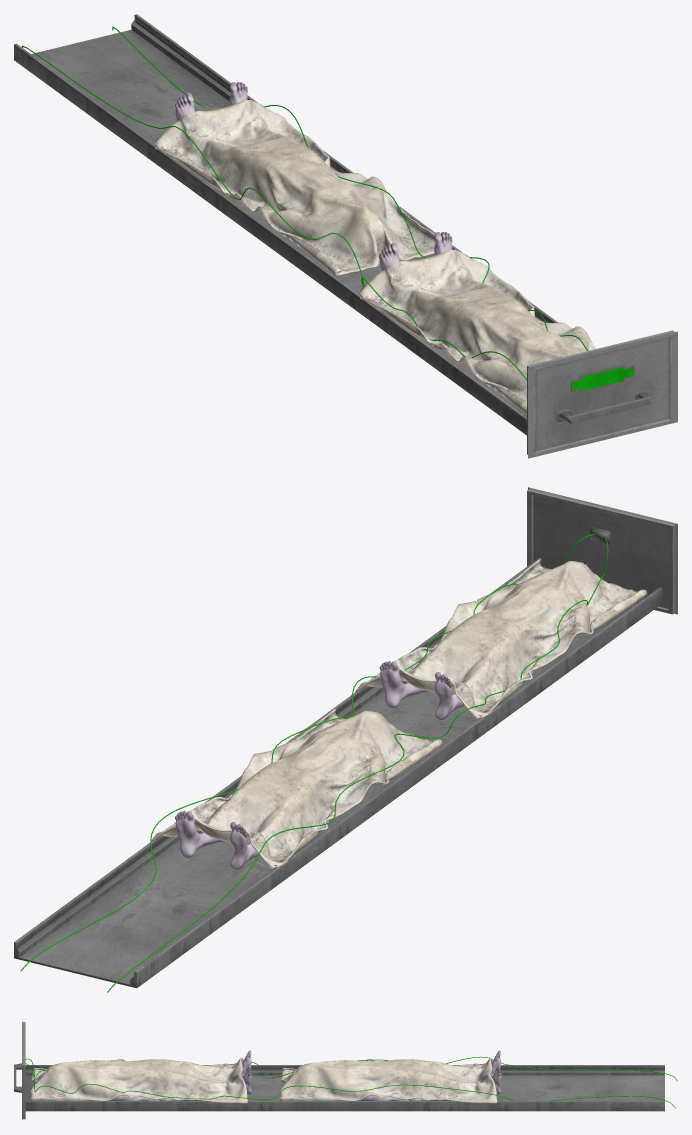
The model's file is szuflada_ziel.glb.
3 views of the same model, one above another, from view 1: azimuth 30°, elevation 25°; view 2: azimuth 150°, elevation 25°; view 3: azimuth 270°, elevation 25° (orthographic). The views are drawn at different scales.
Visible parts, largest first — view 1: Plane.033, Plane.004, Plane.003, Plane.027, BézierCurve.004, Cube.067, Plane.032, FinalBaseMesh.004, FinalBaseMesh.005, BézierCurve.005; view 2: Plane.033, Plane.004, Plane.003, Plane.027, FinalBaseMesh.004, FinalBaseMesh.005, BézierCurve.004, BézierCurve.005; view 3: Plane.033, Plane.004, Plane.003, BézierCurve.005, FinalBaseMesh.004, FinalBaseMesh.005, BézierCurve.004, Plane.027.
Boxes of the visible parts, box(x1,y1,x2,y2) form: Plane.033: box(14, 14, 557, 435); Plane.004: box(154, 100, 436, 276); Plane.003: box(359, 249, 595, 414); Plane.027: box(527, 330, 677, 458); BézierCurve.004: box(22, 45, 526, 380); Cube.067: box(559, 392, 649, 423); Plane.032: box(572, 367, 632, 391); FinalBaseMesh.004: box(379, 232, 452, 271); FinalBaseMesh.005: box(175, 82, 247, 121); BézierCurve.005: box(112, 26, 587, 350); Plane.033: box(14, 557, 662, 988); Plane.004: box(151, 708, 442, 868); Plane.003: box(355, 559, 647, 718); Plane.027: box(527, 487, 677, 614); FinalBaseMesh.004: box(379, 634, 578, 720); FinalBaseMesh.005: box(175, 784, 373, 870); BézierCurve.004: box(107, 537, 608, 992); BézierCurve.005: box(20, 534, 594, 971); Plane.033: box(25, 1065, 664, 1111); Plane.004: box(280, 1057, 497, 1103); Plane.003: box(30, 1057, 247, 1103); BézierCurve.005: box(25, 1063, 675, 1108); FinalBaseMesh.004: box(109, 1050, 251, 1100); FinalBaseMesh.005: box(359, 1050, 501, 1100); BézierCurve.004: box(25, 1056, 677, 1081); Plane.027: box(22, 1021, 25, 1119).
Size of the model in its own units: 6.34 by 3.67 by 39.91.
5 materials, 5 textured.
